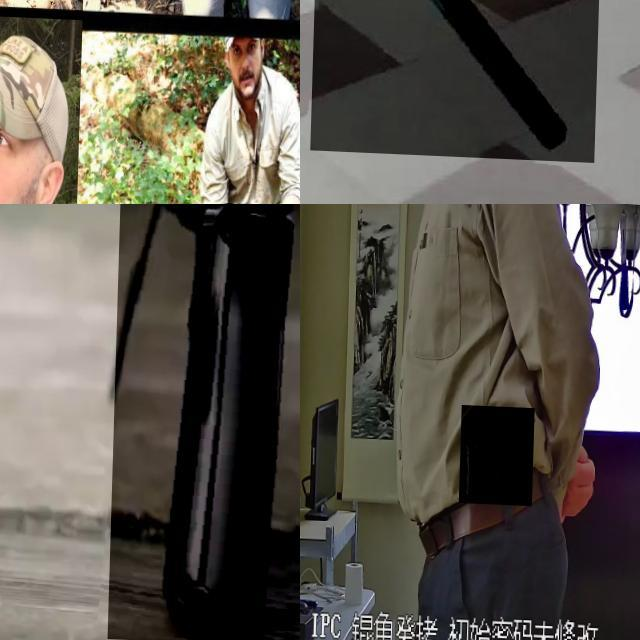-: (313, 0, 604, 158), (0, 21, 47, 204), (221, 0, 269, 26), (0, 0, 11, 27)
gun-knife-thesis - v11 Yolov5 augmented: (111, 204, 300, 640), (462, 403, 537, 504)
